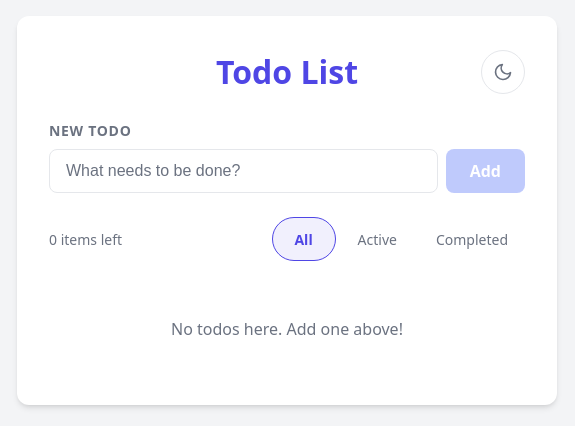
Test: App › adds a new todo
Type "Buy milk" into the field labelled "New todo" at coordinates (243, 171), box 49,149 -> 438,193
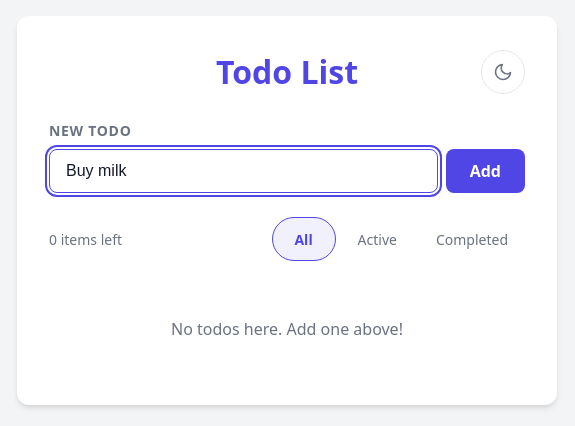
Click the button "Add" at coordinates (485, 171), box 446,149 -> 525,193
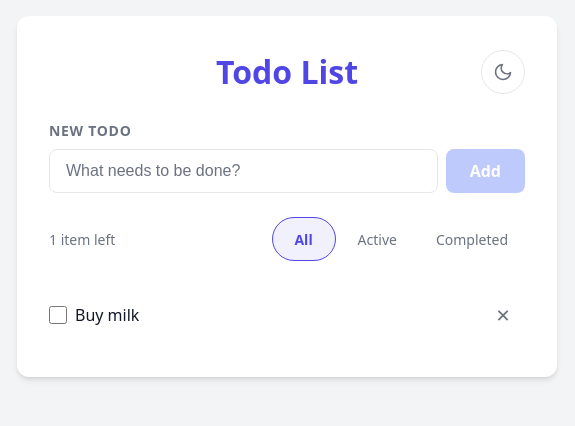
Now the text "Buy milk" is shown, box 75,303 -> 139,327
